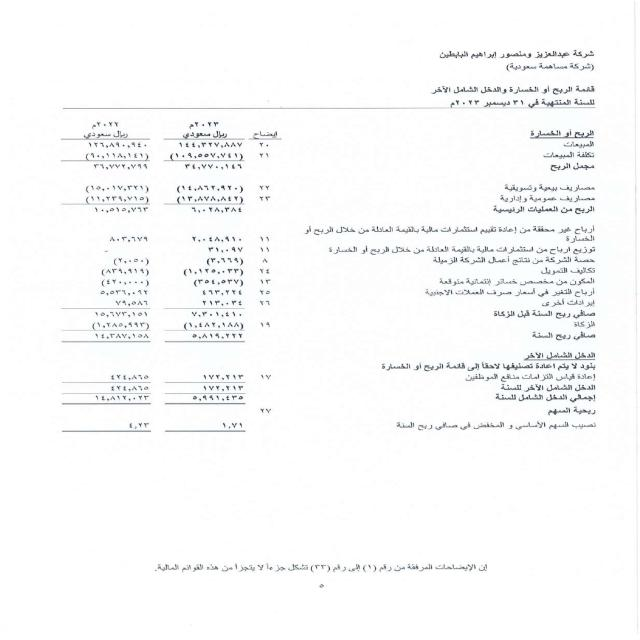financial_sheets: (426, 85, 599, 97)
table: (24, 111, 295, 457)
